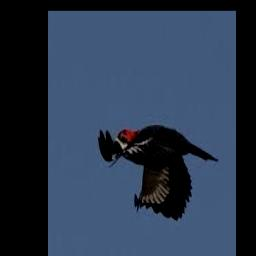Woodpecker: (99, 124, 219, 221)
